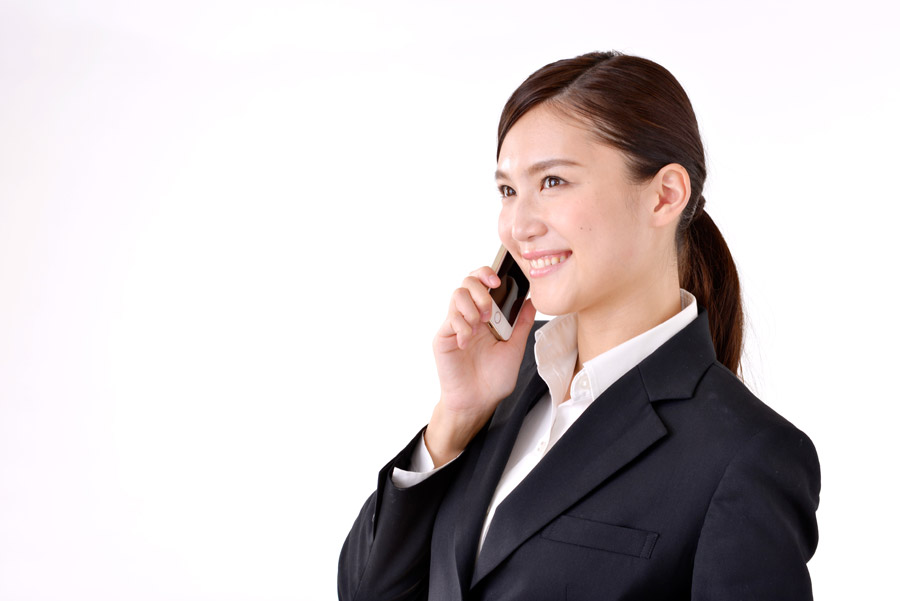phone: (437, 224, 529, 363)
talk: (434, 143, 605, 409)
